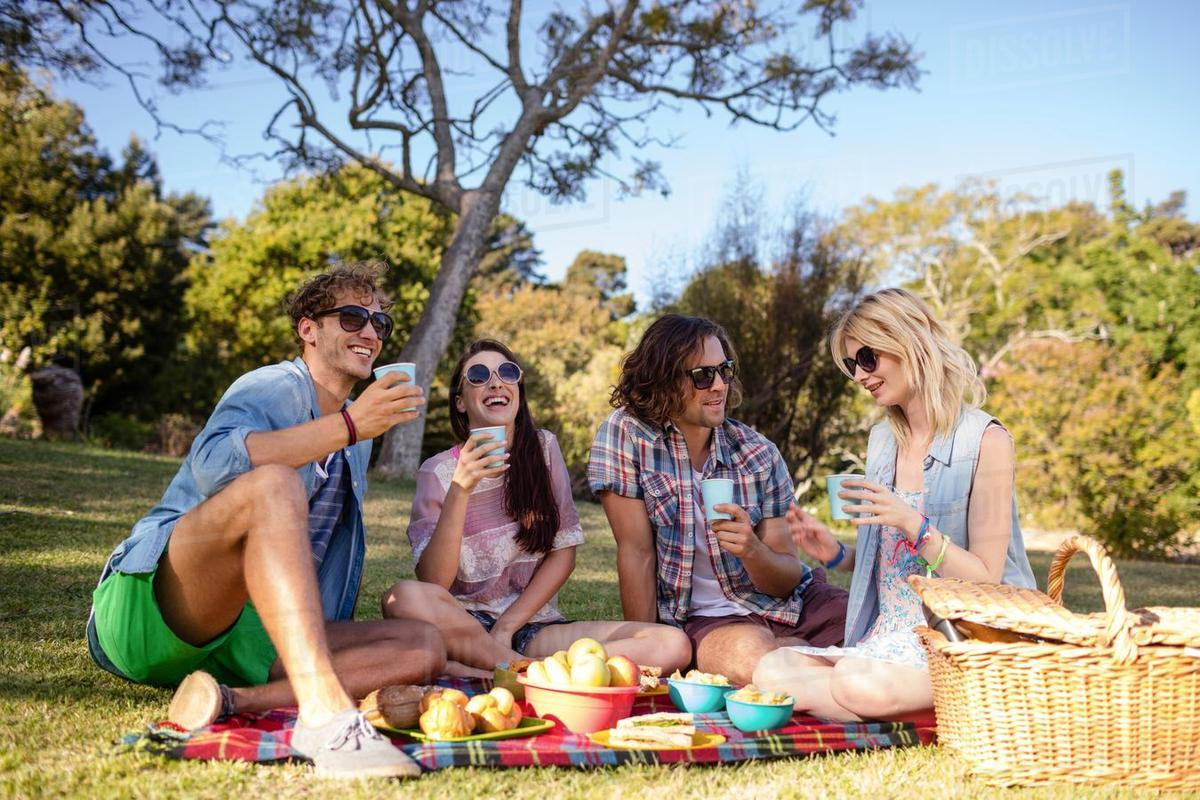Person: (83, 253, 450, 800), (750, 287, 1040, 800), (377, 335, 696, 800), (583, 311, 850, 800)
